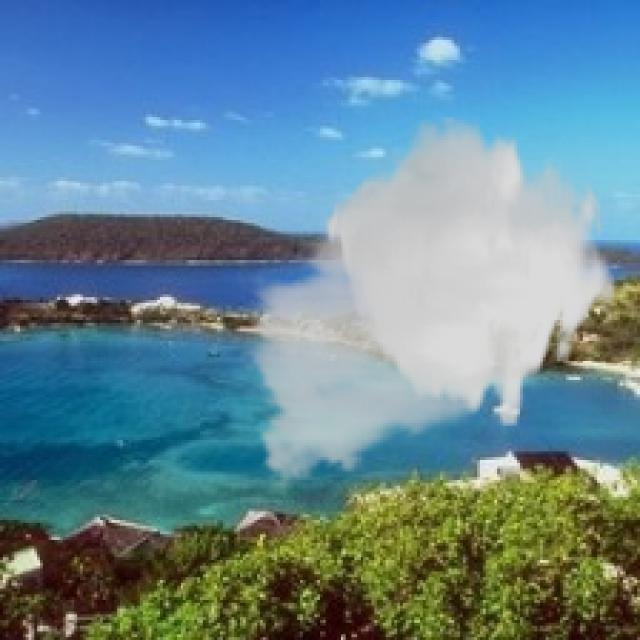smoke: (237, 117, 617, 497)
